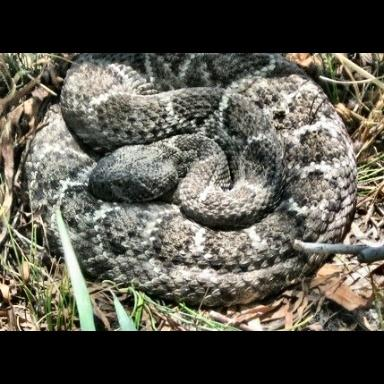snake: (34, 64, 360, 311)
